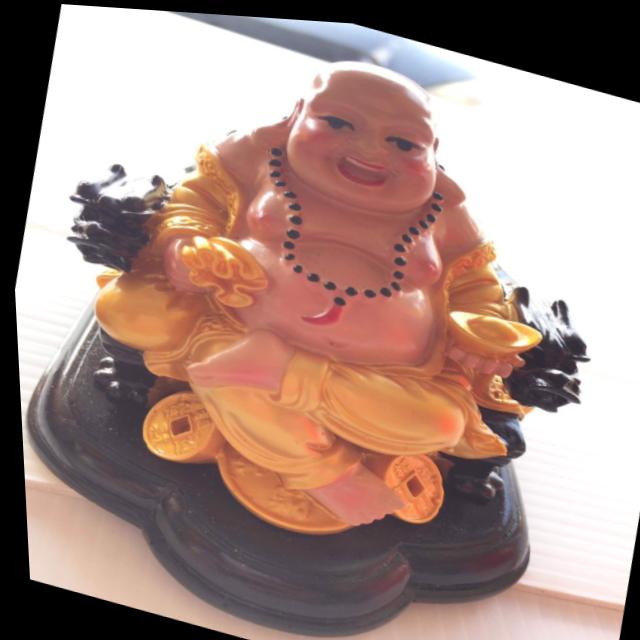Smiling Buddha: (73, 4, 564, 502)
